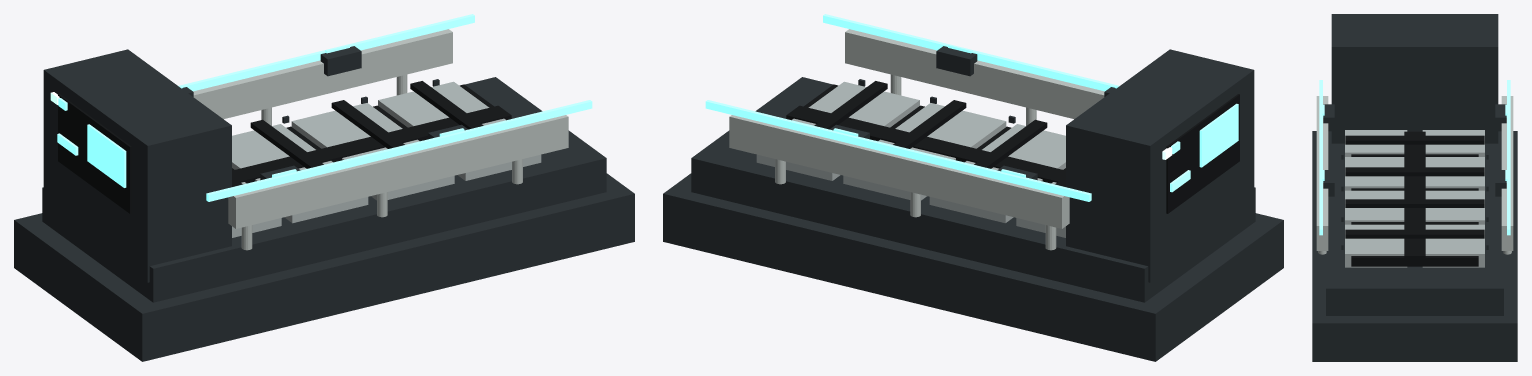
File: hp_hero_maintenance_repair_bay.glb
The picture shows the model from 3 angles, left to right: view 1: azimuth 30°, elevation 25°; view 2: azimuth 150°, elevation 25°; view 3: azimuth 270°, elevation 25°; orthographic projection. The views are drawn at different scales.
Parts seen in each view (by area): view 1: deep_shadow_plinth, head_console_tall_block, segmented_lift_base, side_guard_rail_-0.74, side_guard_rail_0.74, continuous_blue_read_strip_-0.74, head_console_inset_panel, center_service_channel, continuous_blue_read_strip_0.74, segmented_body_panel_right_2, segmented_body_panel_right_3, segmented_body_panel_right_1 (+8 smaller); view 2: deep_shadow_plinth, head_console_tall_block, segmented_lift_base, side_guard_rail_0.74, side_guard_rail_-0.74, continuous_blue_read_strip_0.74, head_console_inset_panel, center_service_channel, continuous_blue_read_strip_-0.74, segmented_body_panel_left_2, segmented_body_panel_left_3, segmented_body_panel_left_1 (+8 smaller); view 3: head_console_tall_block, segmented_lift_base, deep_shadow_plinth, center_service_channel, segmented_body_panel_left_3, segmented_body_panel_right_3, segmented_body_panel_left_2, segmented_body_panel_right_2, segmented_body_panel_left_1, segmented_body_panel_right_1, recessed_restraint_slot_-0.18, recessed_restraint_slot_-0.78 (+16 smaller).
Part boxes in pixels (<box>): deep_shadow_plinth: <box>14,173,634,361</box>; head_console_tall_block: <box>43,49,231,282</box>; segmented_lift_base: <box>42,77,606,302</box>; side_guard_rail_-0.74: <box>228,115,568,228</box>; side_guard_rail_0.74: <box>193,29,452,119</box>; continuous_blue_read_strip_-0.74: <box>206,100,592,201</box>; head_console_inset_panel: <box>58,94,131,213</box>; center_service_channel: <box>232,105,511,182</box>; continuous_blue_read_strip_0.74: <box>181,14,474,91</box>; segmented_body_panel_right_2: <box>291,103,402,148</box>; segmented_body_panel_right_3: <box>378,81,489,127</box>; segmented_body_panel_right_1: <box>232,124,315,169</box>; deep_shadow_plinth: <box>663,173,1283,361</box>; head_console_tall_block: <box>1066,49,1254,282</box>; segmented_lift_base: <box>691,77,1255,302</box>; side_guard_rail_0.74: <box>729,115,1069,228</box>; side_guard_rail_-0.74: <box>845,29,1104,119</box>; continuous_blue_read_strip_0.74: <box>705,100,1091,201</box>; head_console_inset_panel: <box>1166,94,1239,213</box>; center_service_channel: <box>786,105,1065,182</box>; continuous_blue_read_strip_-0.74: <box>823,14,1116,91</box>; segmented_body_panel_left_2: <box>895,103,1006,148</box>; segmented_body_panel_left_3: <box>808,81,919,127</box>; segmented_body_panel_left_1: <box>982,124,1065,169</box>; head_console_tall_block: <box>1331,14,1498,143</box>; segmented_lift_base: <box>1326,131,1503,315</box>; deep_shadow_plinth: <box>1312,131,1517,361</box>; center_service_channel: <box>1404,131,1425,264</box>; segmented_body_panel_left_3: <box>1345,224,1407,267</box>; segmented_body_panel_right_3: <box>1422,224,1484,267</box>; segmented_body_panel_left_2: <box>1345,190,1404,224</box>; segmented_body_panel_right_2: <box>1425,190,1484,224</box>; segmented_body_panel_left_1: <box>1345,157,1404,190</box>; segmented_body_panel_right_1: <box>1425,157,1484,190</box>; recessed_restraint_slot_-0.18: <box>1345,167,1484,176</box>; recessed_restraint_slot_-0.78: <box>1345,135,1484,144</box>.
Bounding box in the file's own units: 3.64 × 1.43 × 1.64.
